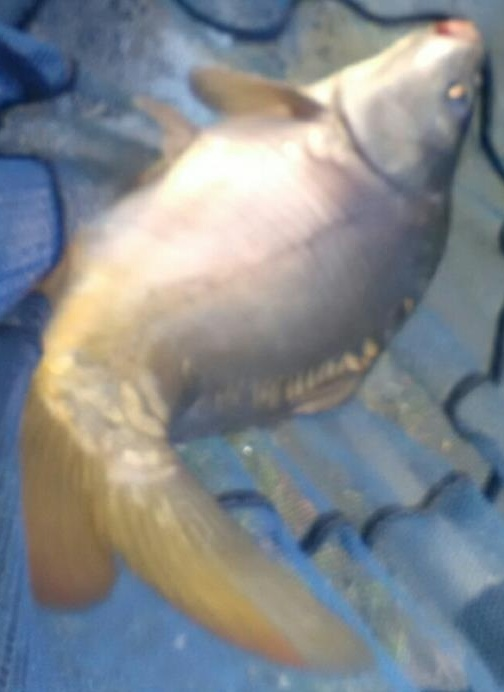Cyprinus carpio: (20, 20, 484, 672)
